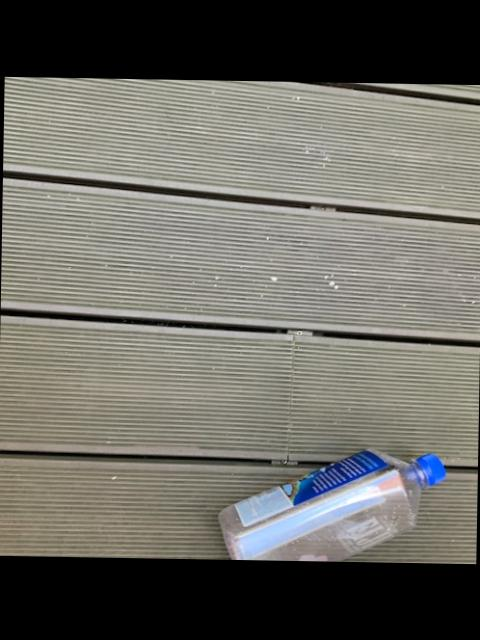plastic: (217, 448, 443, 562)
